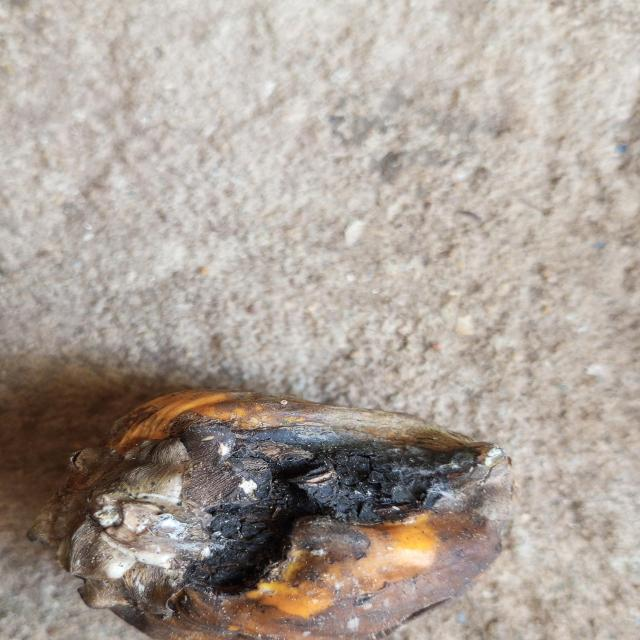damaged: (32, 391, 506, 640)
